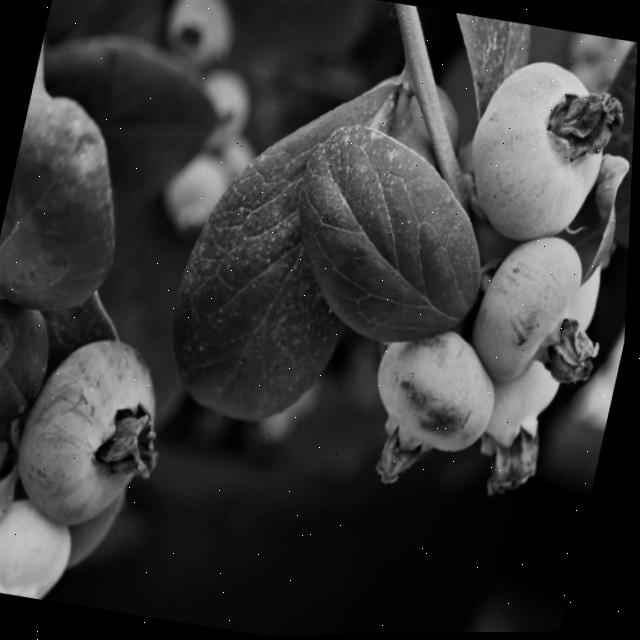RipeBlueBerry: (9, 327, 175, 538), (469, 232, 609, 393)
Semi-RipeBlueBerry: (453, 47, 627, 255), (356, 323, 510, 496)
